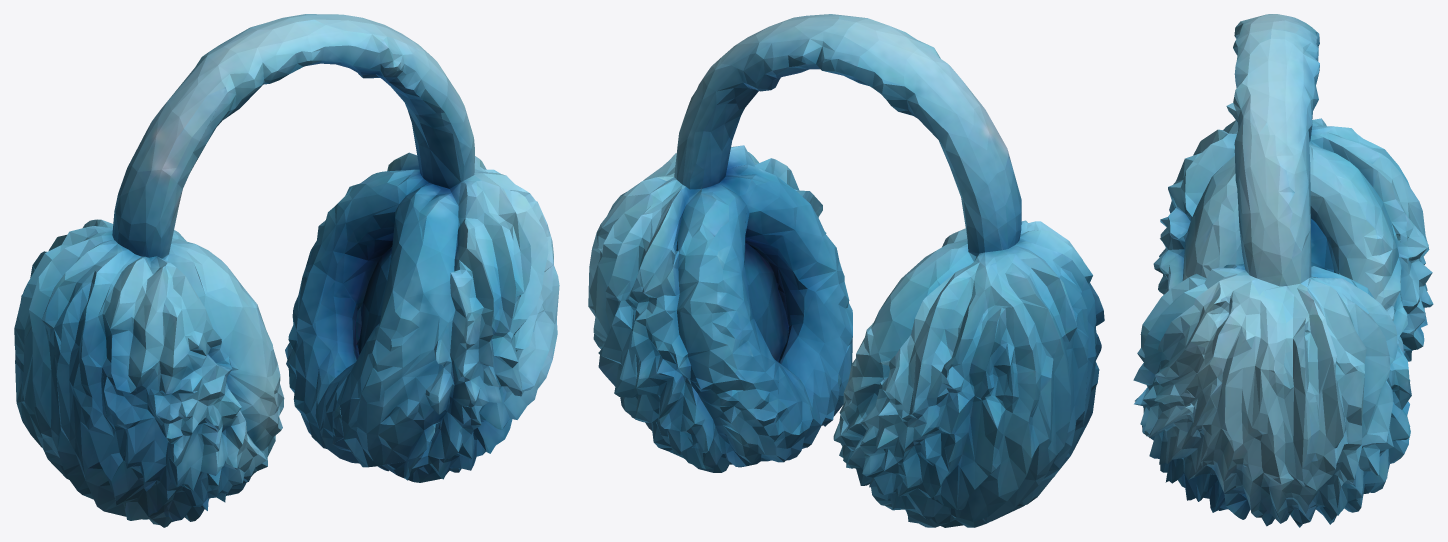
File: blue_earmuffs.glb
3 renders of one model, left to right at view 1: azimuth 30°, elevation 25°; view 2: azimuth 150°, elevation 25°; view 3: azimuth 270°, elevation 25°, orthographic. The views are drawn at different scales.
Parts seen in each view (by area): view 1: geometry_0; view 2: geometry_0; view 3: geometry_0.
Boxes of the visible parts, x1=… form: geometry_0: x1=14, y1=14, x2=559, y2=527; geometry_0: x1=588, y1=14, x2=1104, y2=527; geometry_0: x1=1133, y1=14, x2=1433, y2=527.
Bounding box in the file's own units: 0.55 × 0.5145 × 0.319.
Materials: 1 (1 with a texture image).
